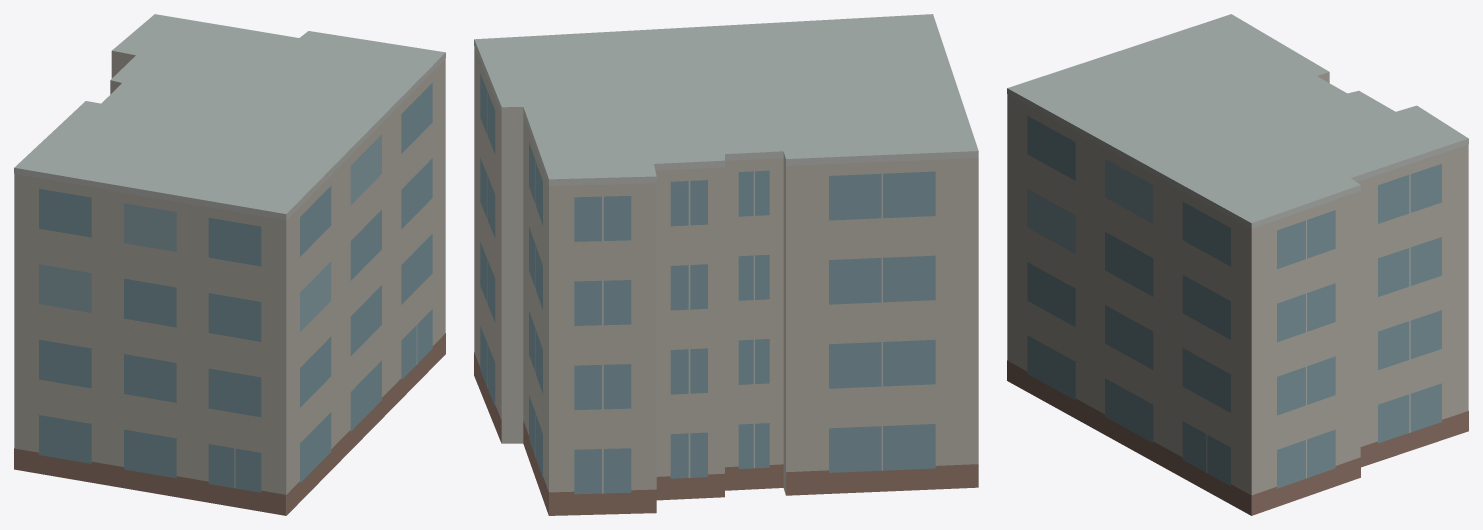
File: survey-upis-32815217.glb
3 views of the same model, side by side, from view 1: azimuth 30°, elevation 25°; view 2: azimuth 150°, elevation 25°; view 3: azimuth 270°, elevation 25° (orthographic). The views are drawn at different scales.
Parts seen in each view (by area): view 1: survey-upis-32815217.tmp; view 2: survey-upis-32815217.tmp; view 3: survey-upis-32815217.tmp.
Part boxes in pixels (bbox=[...]): survey-upis-32815217.tmp: bbox=[14, 14, 445, 515]; survey-upis-32815217.tmp: bbox=[474, 14, 978, 515]; survey-upis-32815217.tmp: bbox=[1007, 14, 1468, 515].
Bounding box in the file's own units: 18.73 × 12.21 × 17.47.
